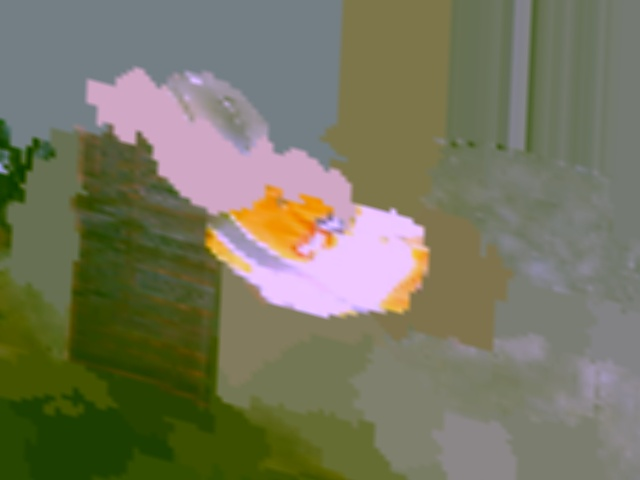two: (167, 135, 221, 185)
